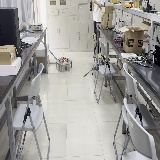fire: (62, 41, 66, 62)
